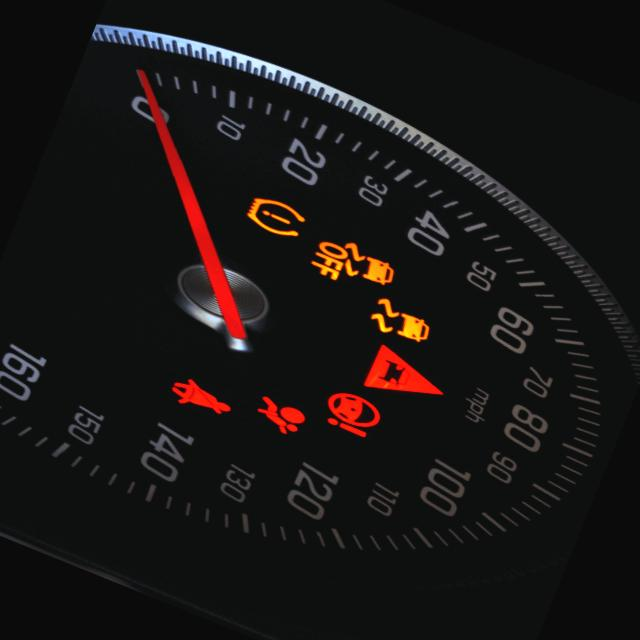kontrolka: (303, 224, 406, 302), (226, 176, 325, 252), (314, 381, 392, 448), (361, 296, 434, 349), (245, 390, 313, 439)
